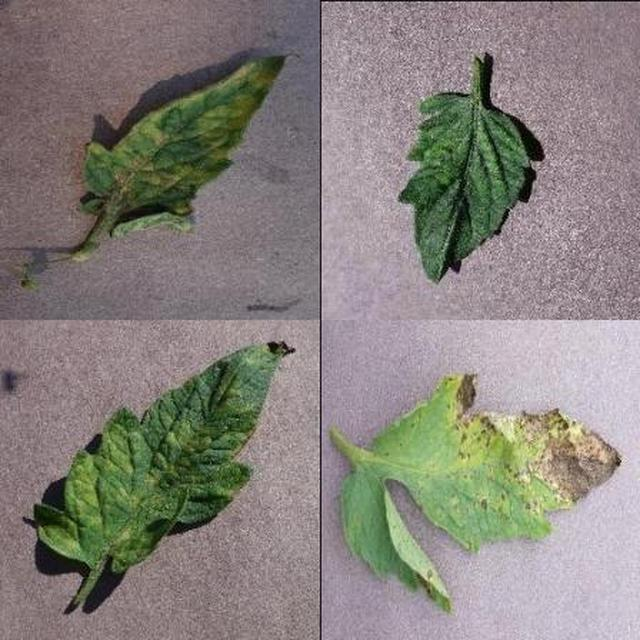Leaf Mold: (190, 207, 640, 640)
